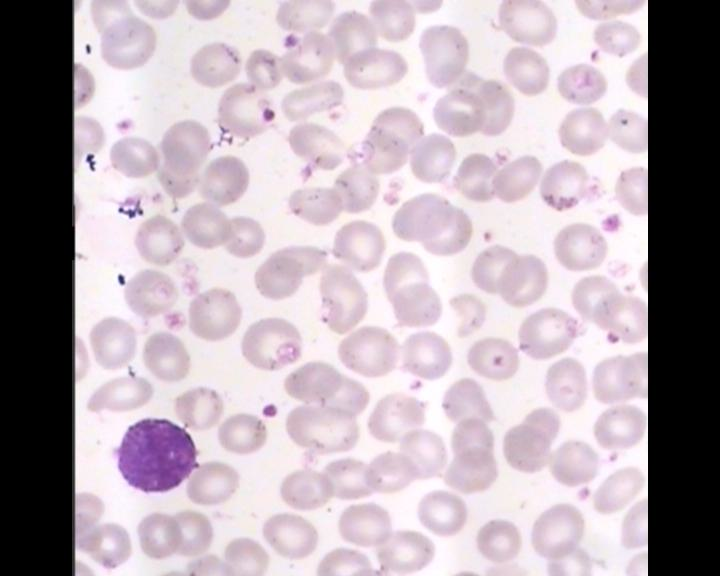baso: (113, 414, 198, 497)
